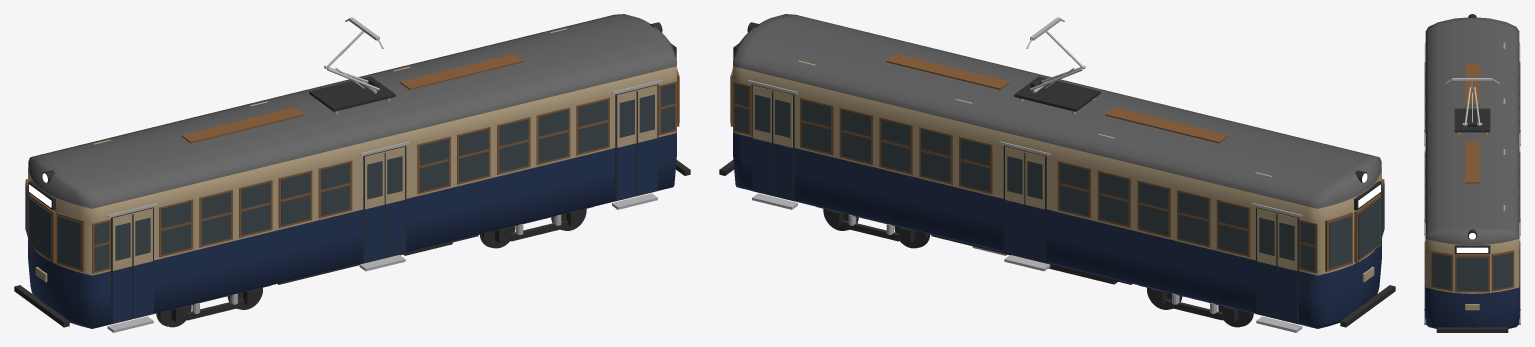
The model's file is Hakodate_500.glb.
3 views of the same model, side by side, from view 1: azimuth 30°, elevation 25°; view 2: azimuth 150°, elevation 25°; view 3: azimuth 270°, elevation 25° (orthographic). The views are drawn at different scales.
Parts seen in each view (by area): view 1: H500_Body, H500_SideWin_Glass, H500_Door_Navy, H500_SideWin_Varnish, H500_Door_Beige, H500_Door_Glass, H500_Bogie_Dark, H500_Roof_Varnish, H500_Front_Glass, H500_Door_Dark, H500_Panta_Dark, H500_Under_Metal (+4 smaller); view 2: H500_Body, H500_SideWin_Glass, H500_Door_Navy, H500_SideWin_Varnish, H500_Door_Beige, H500_Door_Glass, H500_Bogie_Dark, H500_Roof_Varnish, H500_Front_Glass, H500_Door_Dark, H500_Panta_Dark, H500_Under_Metal (+5 smaller); view 3: H500_Body, H500_Front_Glass, H500_Roof_Varnish, H500_Front_Varnish, H500_Panta_Dark, H500_Door_Dark, H500_Front_Metal, H500_Panta_Metal, H500_SideWin_Varnish, H500_SideWin_Glass, H500_Door_Metal, H500_Front_Dark (+3 smaller).
Boxes of the visible parts, x1,y1,x2,y2 form: H500_Body: (28, 14, 676, 328); H500_SideWin_Glass: (94, 83, 675, 271); H500_Door_Navy: (112, 138, 657, 322); H500_SideWin_Varnish: (92, 81, 676, 273); H500_Door_Beige: (112, 85, 657, 270); H500_Door_Glass: (115, 94, 654, 260); H500_Bogie_Dark: (156, 206, 593, 327); H500_Roof_Varnish: (181, 54, 523, 143); H500_Front_Glass: (25, 76, 679, 268); H500_Door_Dark: (110, 84, 658, 324); H500_Panta_Dark: (309, 76, 395, 111); H500_Under_Metal: (107, 193, 657, 332); H500_Body: (733, 14, 1381, 328); H500_SideWin_Glass: (734, 83, 1315, 271); H500_Door_Navy: (752, 138, 1297, 322); H500_SideWin_Varnish: (733, 81, 1317, 273); H500_Door_Beige: (752, 85, 1297, 270); H500_Door_Glass: (755, 94, 1294, 260); H500_Bogie_Dark: (816, 206, 1253, 327); H500_Roof_Varnish: (886, 54, 1228, 143); H500_Front_Glass: (730, 76, 1384, 268); H500_Door_Dark: (751, 84, 1299, 324); H500_Panta_Dark: (1014, 76, 1100, 111); H500_Under_Metal: (752, 193, 1302, 332); H500_Body: (1425, 17, 1519, 328); H500_Front_Glass: (1432, 253, 1512, 290); H500_Roof_Varnish: (1465, 64, 1479, 183); H500_Front_Varnish: (1430, 250, 1514, 292); H500_Panta_Dark: (1454, 108, 1490, 132); H500_Door_Dark: (1424, 63, 1520, 319); H500_Front_Metal: (1436, 327, 1508, 332); H500_Panta_Metal: (1445, 78, 1499, 126); H500_SideWin_Varnish: (1425, 42, 1519, 285); H500_SideWin_Glass: (1425, 68, 1519, 283); H500_Door_Metal: (1424, 44, 1520, 241); H500_Front_Dark: (1454, 245, 1490, 254).
Size of the model in its own units: 13.17 by 4.7 by 2.42.
